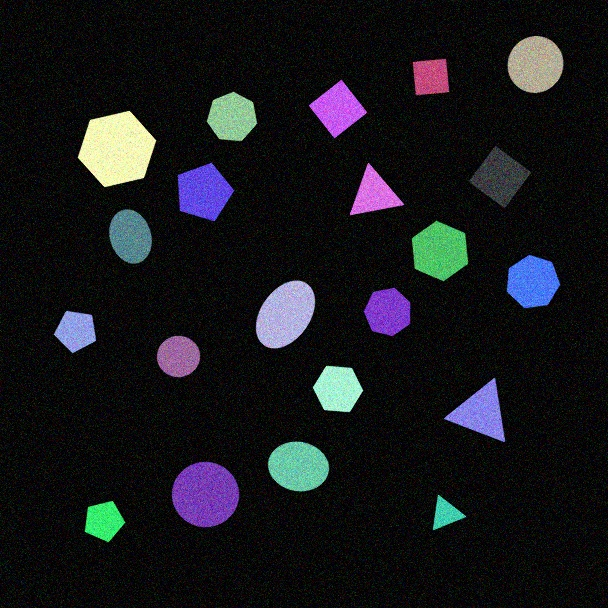Circulo: (171, 461, 240, 528), (507, 35, 564, 94), (156, 335, 201, 378)
Elipse: (255, 280, 316, 349), (267, 441, 330, 492), (108, 209, 153, 264)
Heptagono: (506, 254, 561, 309), (206, 91, 258, 142), (363, 287, 411, 337)
Hexagono: (77, 110, 157, 188), (411, 220, 469, 282), (312, 365, 364, 413)
Pentagono: (177, 162, 235, 222), (53, 310, 97, 354), (84, 500, 126, 543)
Quadrado: (468, 145, 532, 209), (308, 79, 368, 139), (412, 58, 450, 96)
Triangulo: (444, 377, 506, 443), (349, 163, 405, 216), (432, 494, 467, 531)
